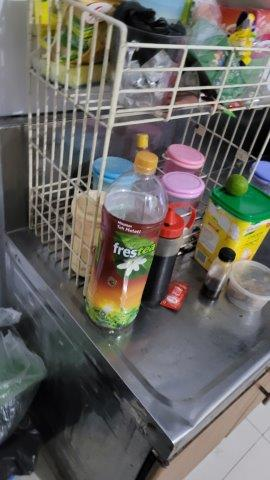botolplastik: (86, 150, 168, 330)
